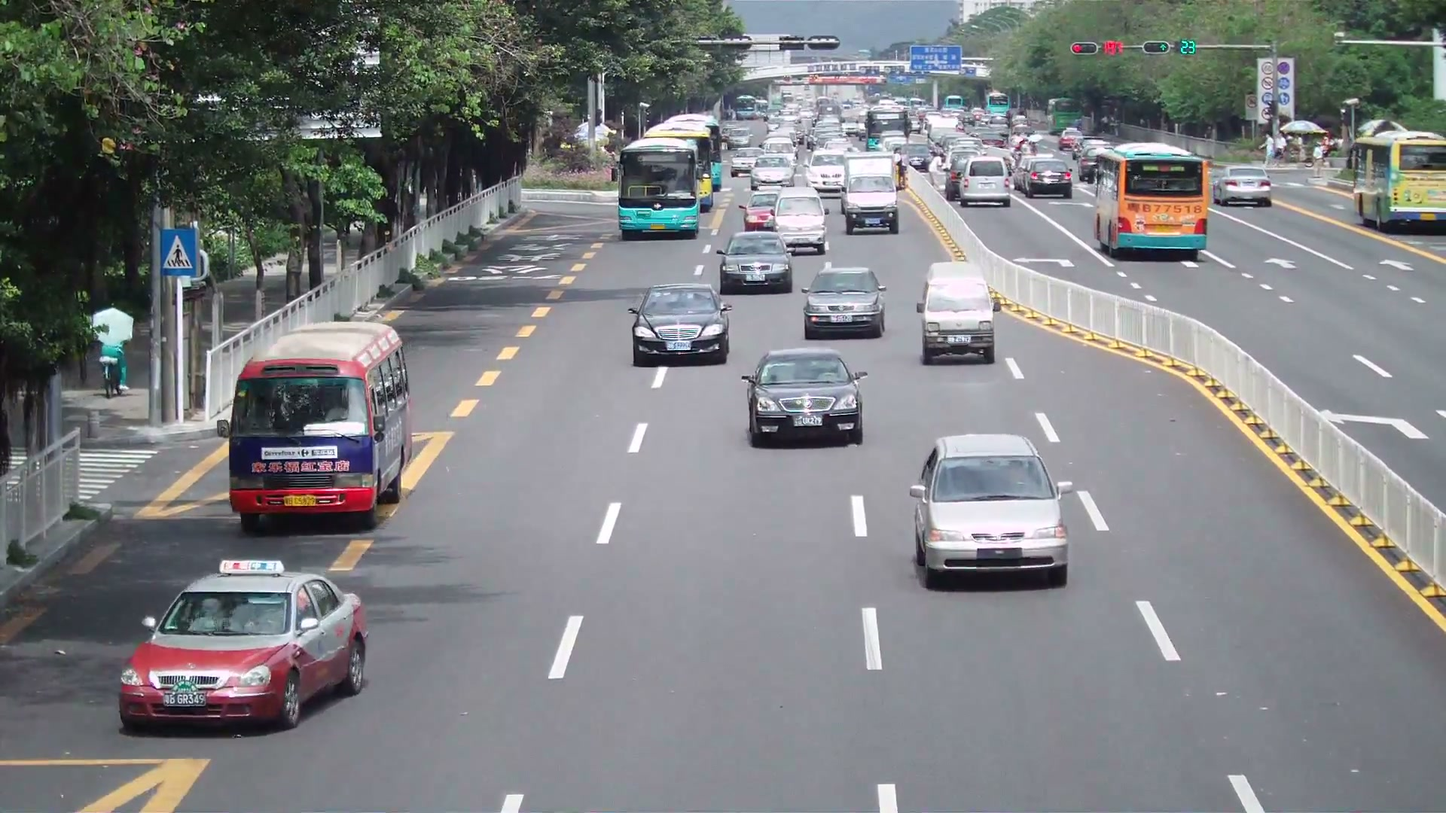bus: (224, 319, 411, 529), (1084, 140, 1212, 260), (1352, 127, 1446, 232), (616, 136, 704, 237), (648, 113, 724, 195)
car: (117, 561, 370, 736), (906, 432, 1072, 589), (740, 348, 866, 448), (628, 282, 732, 365), (917, 263, 996, 365), (802, 265, 887, 341), (719, 231, 795, 293), (772, 188, 828, 253), (955, 155, 1012, 208), (1020, 154, 1076, 199), (1216, 167, 1273, 206), (741, 196, 780, 233)
truck: (841, 153, 902, 233)
